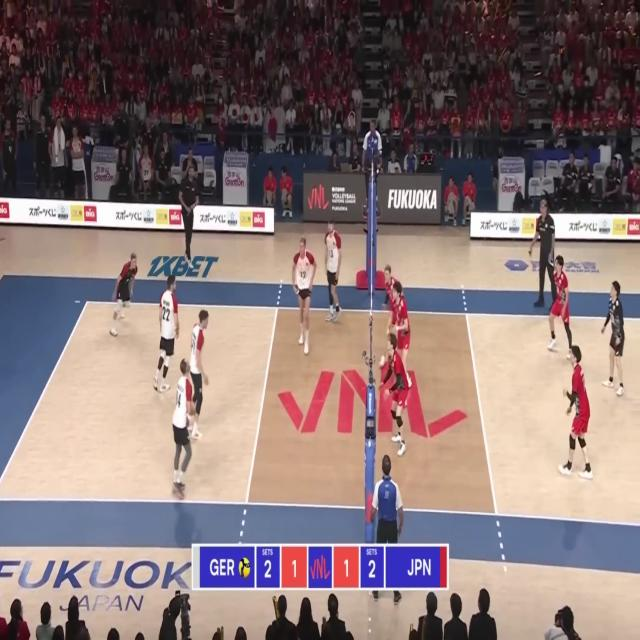referee: (372, 455, 402, 605)
team_one: (171, 361, 195, 498), (154, 276, 180, 396), (290, 238, 316, 358), (186, 308, 210, 434), (109, 251, 137, 341), (324, 220, 344, 328)
team_two: (558, 345, 594, 480), (381, 334, 409, 458), (601, 280, 625, 396), (387, 281, 412, 390), (548, 255, 574, 358), (382, 264, 404, 333)
